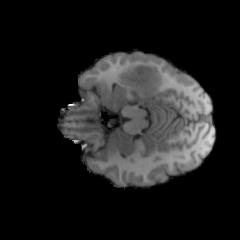glioma: (117, 65, 162, 96)
